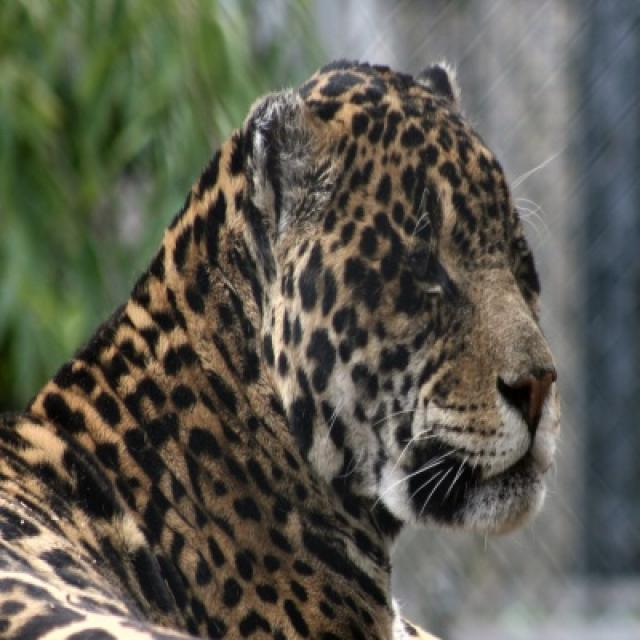Jaguar: (0, 61, 563, 638)
